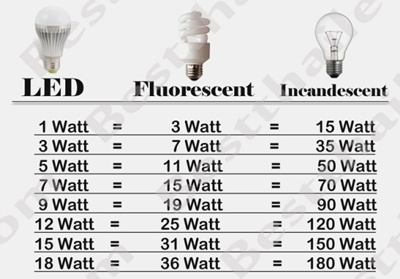Light_bulb: (171, 9, 217, 83), (313, 8, 357, 84), (32, 3, 74, 74)
